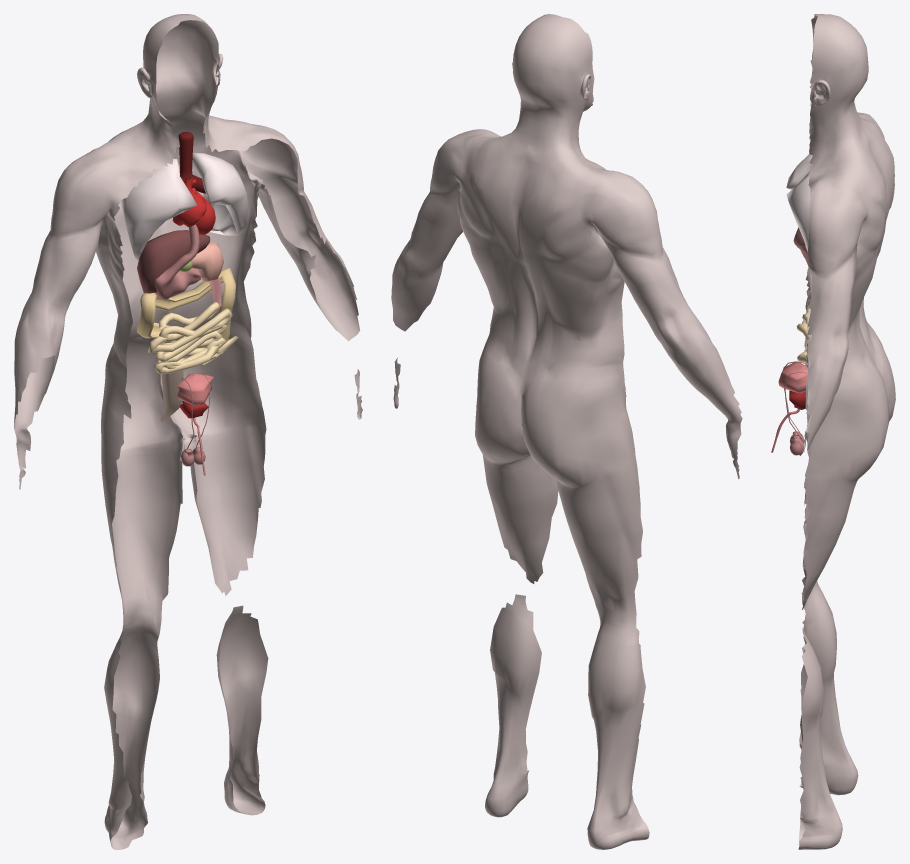
The model's file is anatomy1.fbx.
3 views of the same model, side by side, from view 1: azimuth 30°, elevation 25°; view 2: azimuth 150°, elevation 25°; view 3: azimuth 270°, elevation 25° (orthographic).
Visible parts, largest first — view 1: Body_skin.001, Lungs, Intestines, Large_intestine, Liver, Stomac_open, Heart, Urethra, Pancreas, Arteries, Rectum; view 2: Body_skin.001; view 3: Body_skin.001, Lungs, Urethra, Intestines.
Boxes of the visible parts, x1,y1,x2,y2 form: Body_skin.001: (14, 14, 362, 849); Lungs: (121, 152, 248, 259); Intestines: (148, 302, 238, 374); Large_intestine: (137, 268, 235, 342); Liver: (137, 230, 210, 293); Stomac_open: (154, 223, 221, 308); Heart: (172, 177, 215, 234); Urethra: (177, 373, 213, 475); Pancreas: (191, 242, 223, 282); Arteries: (178, 132, 205, 193); Rectum: (160, 341, 183, 421); Body_skin.001: (391, 14, 742, 849); Body_skin.001: (798, 14, 895, 849); Lungs: (786, 154, 812, 251); Urethra: (771, 362, 807, 452); Intestines: (796, 298, 809, 369).
Size of the model in its own units: 281 by 622 by 87.51.
